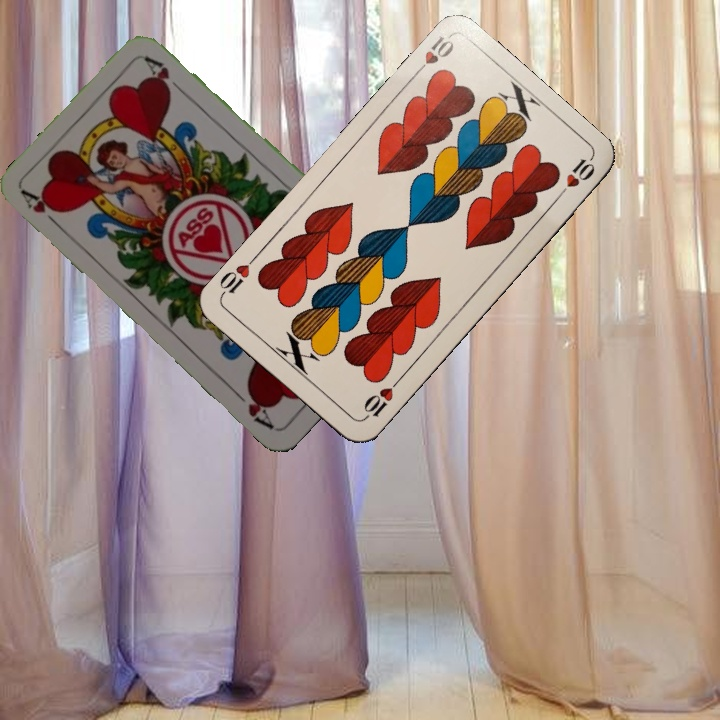H10: (409, 31, 457, 80), (359, 374, 403, 423)
HA: (18, 186, 66, 233)
